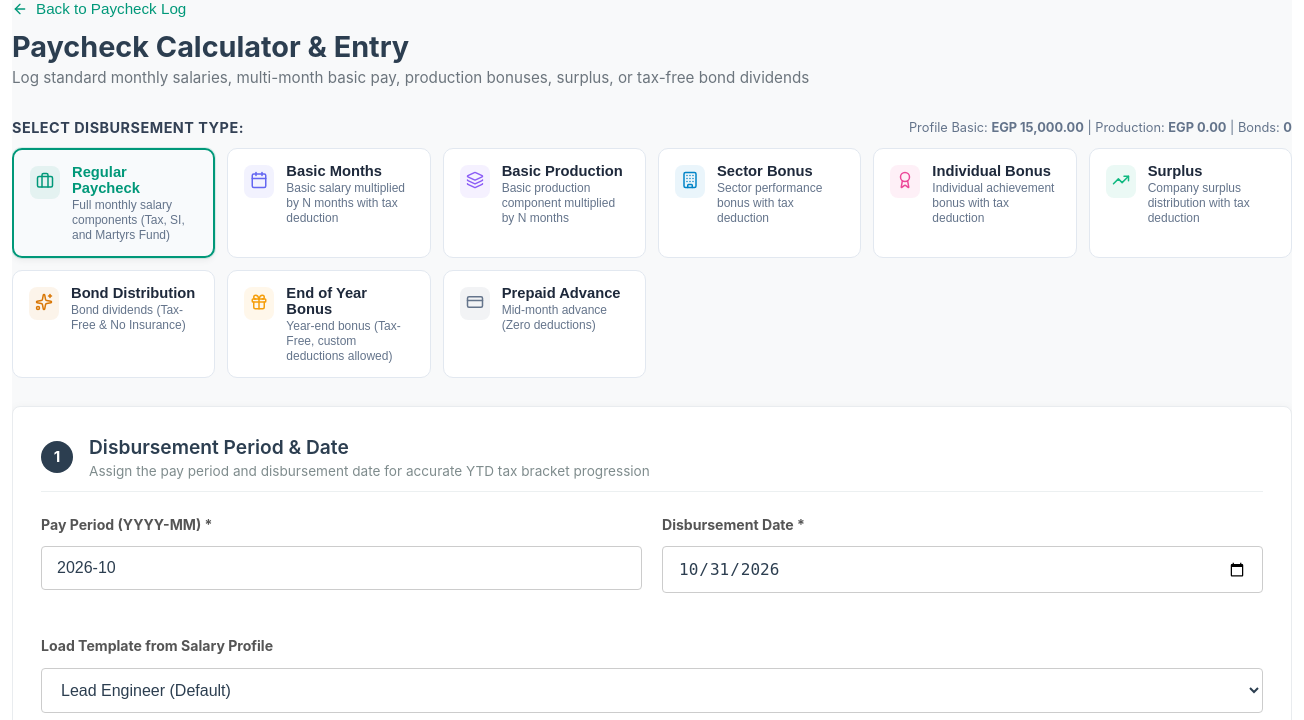
Scenario: Step 5B.2: [AUD-TEST-002] PaycheckFormPage User Journey & Statutory Verification › 9. disables tax when switching to tax-exempt disbursement type (Bond Distribution)
Expected: the text "Bond Distribution" is shown, [71, 285, 198, 301]
Click the button "Bond Distribution": [114, 324] box [12, 270, 215, 378]
(page scrolled)
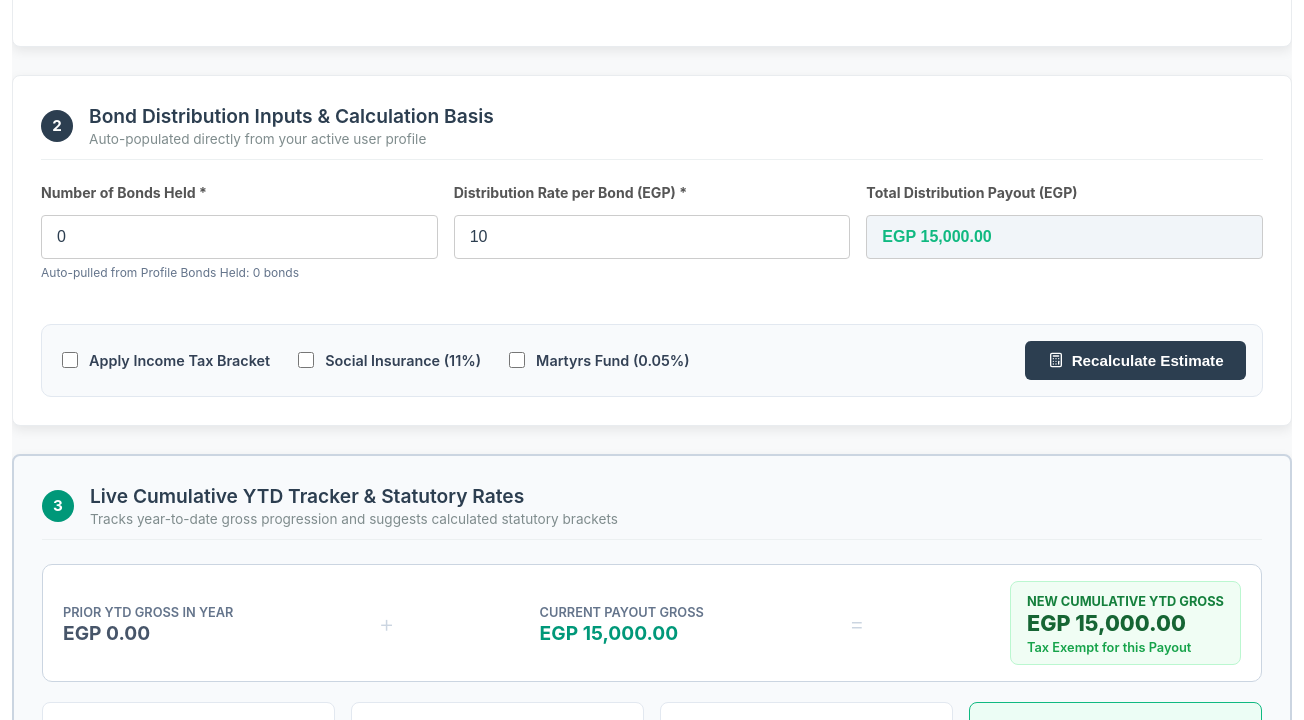
Result: the checkbox labelled "Apply Income Tax Bracket" is not checked at [62, 352, 78, 368]
